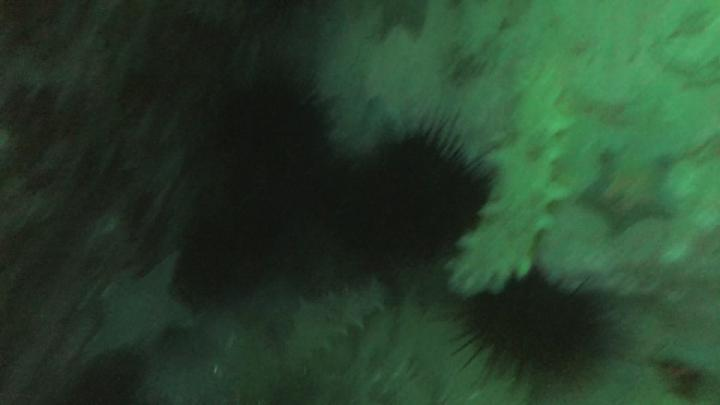echinus: (366, 129, 487, 260), (469, 279, 590, 381)
holothurian: (451, 57, 572, 307), (295, 274, 385, 356)
starfish: (86, 252, 199, 364), (586, 149, 678, 235)
